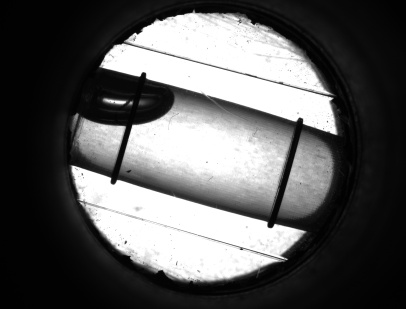line: (266, 137, 302, 210), (111, 130, 134, 166)
